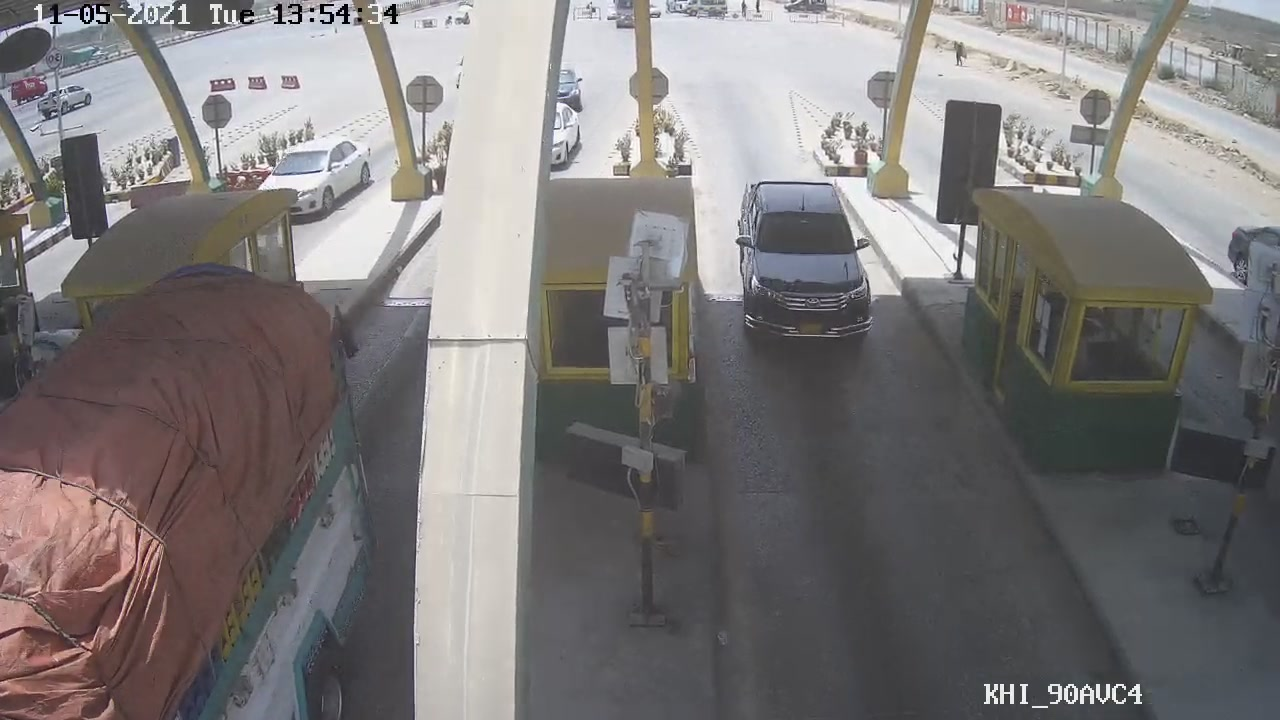F1: (728, 159, 888, 355)
